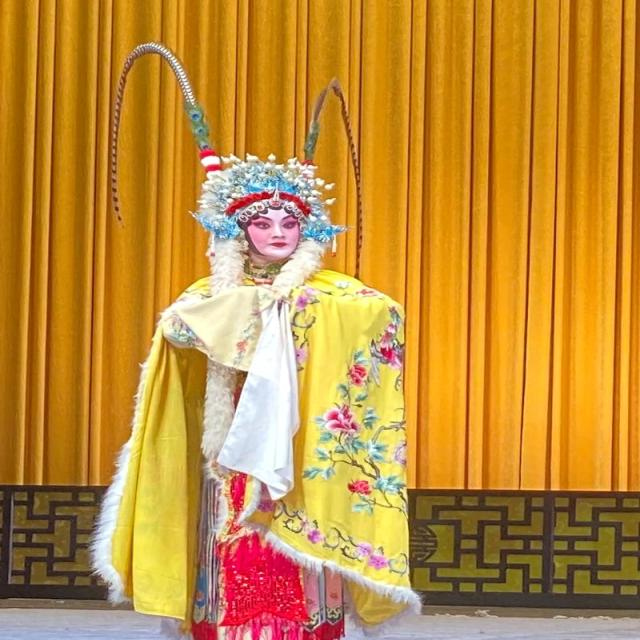Reeves-s Pheasant: (111, 42, 221, 220)
